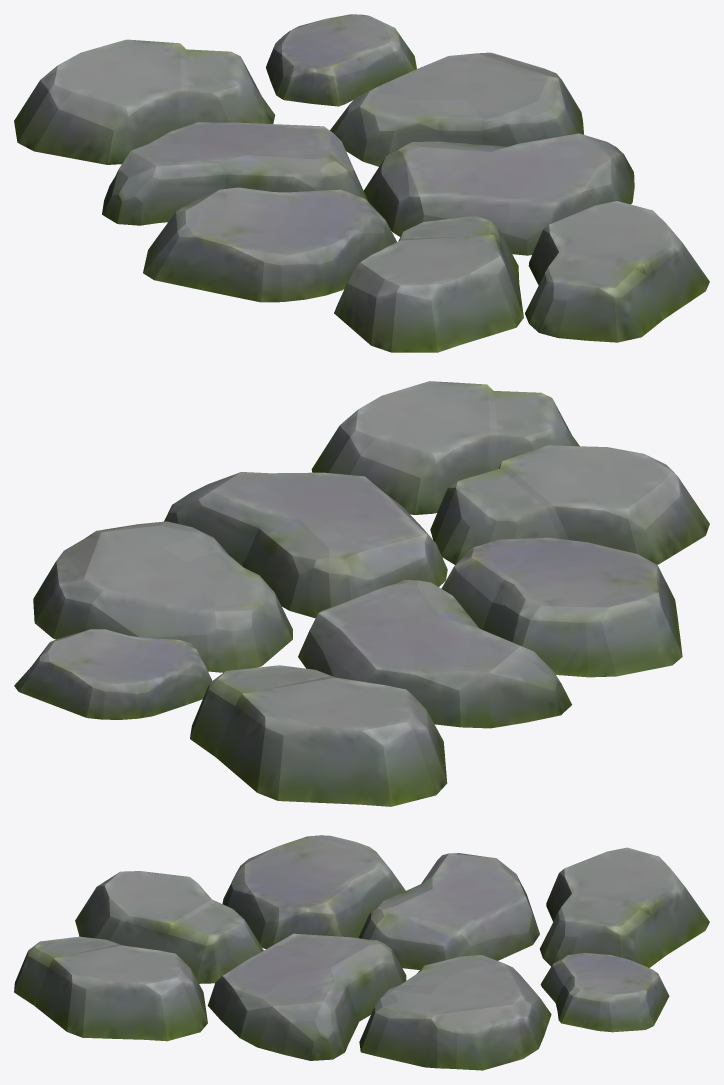
Rendered from Rock_Path_Round_Small.glb.
3 views of the same model, one above another, from view 1: azimuth 30°, elevation 25°; view 2: azimuth 150°, elevation 25°; view 3: azimuth 270°, elevation 25° (orthographic). The views are drawn at different scales.
Parts seen in each view (by area): view 1: RockPath_Round_Small_1; view 2: RockPath_Round_Small_1; view 3: RockPath_Round_Small_1.
Part boxes in pixels (bbox=[...]): RockPath_Round_Small_1: bbox=[14, 14, 709, 352]; RockPath_Round_Small_1: bbox=[14, 381, 709, 806]; RockPath_Round_Small_1: bbox=[14, 835, 709, 1070].
Bounding box in the file's own units: 1.06 × 0.1128 × 1.48.
1 material, 1 textured.
